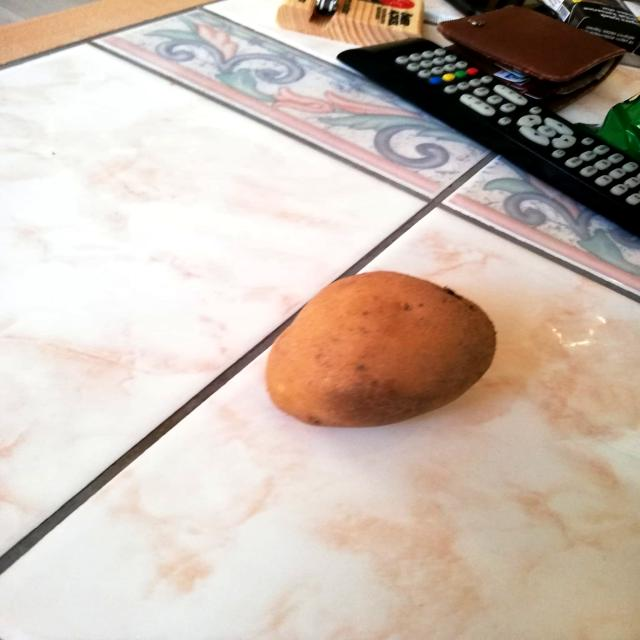potato: (260, 268, 501, 435)
